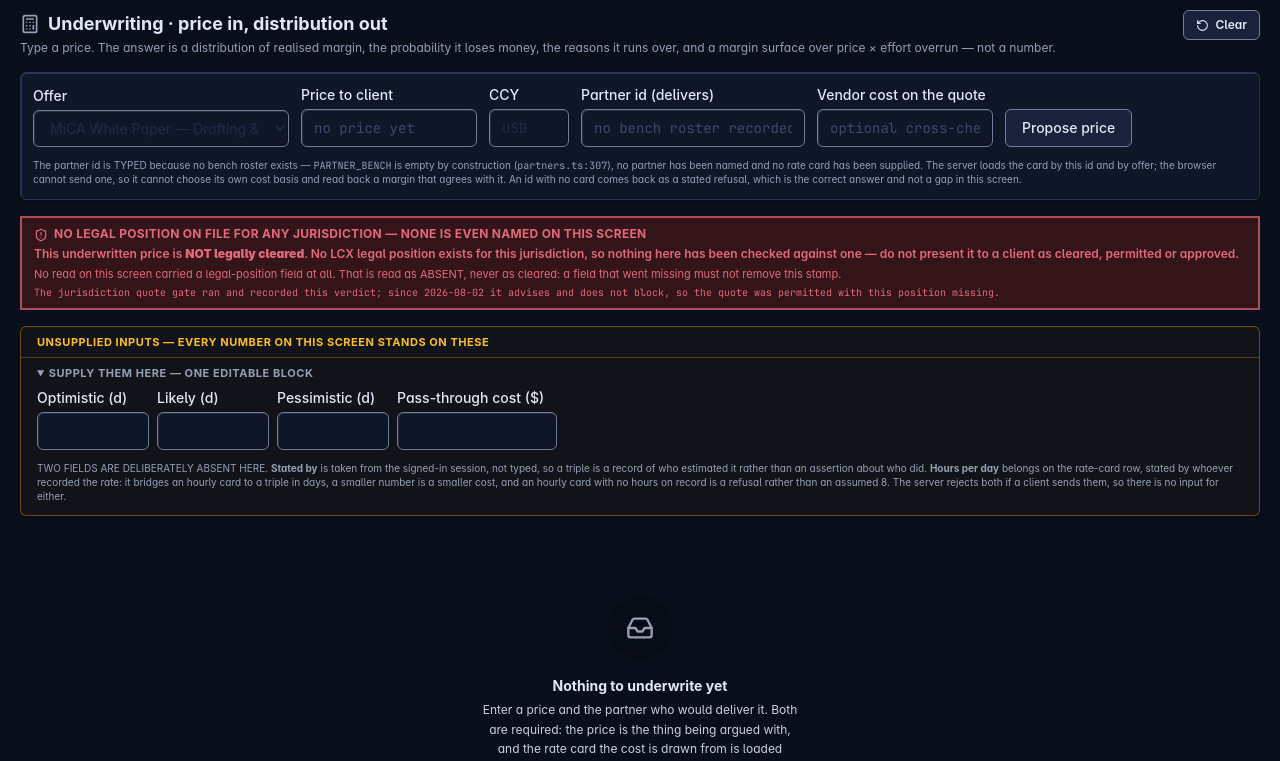
Test: the basis of the distribution › drops the prior warning once recorded outcomes are moving the numbers
Type "25000" into the field with test id "price-input" at (389, 128), box [301,109,477,147]
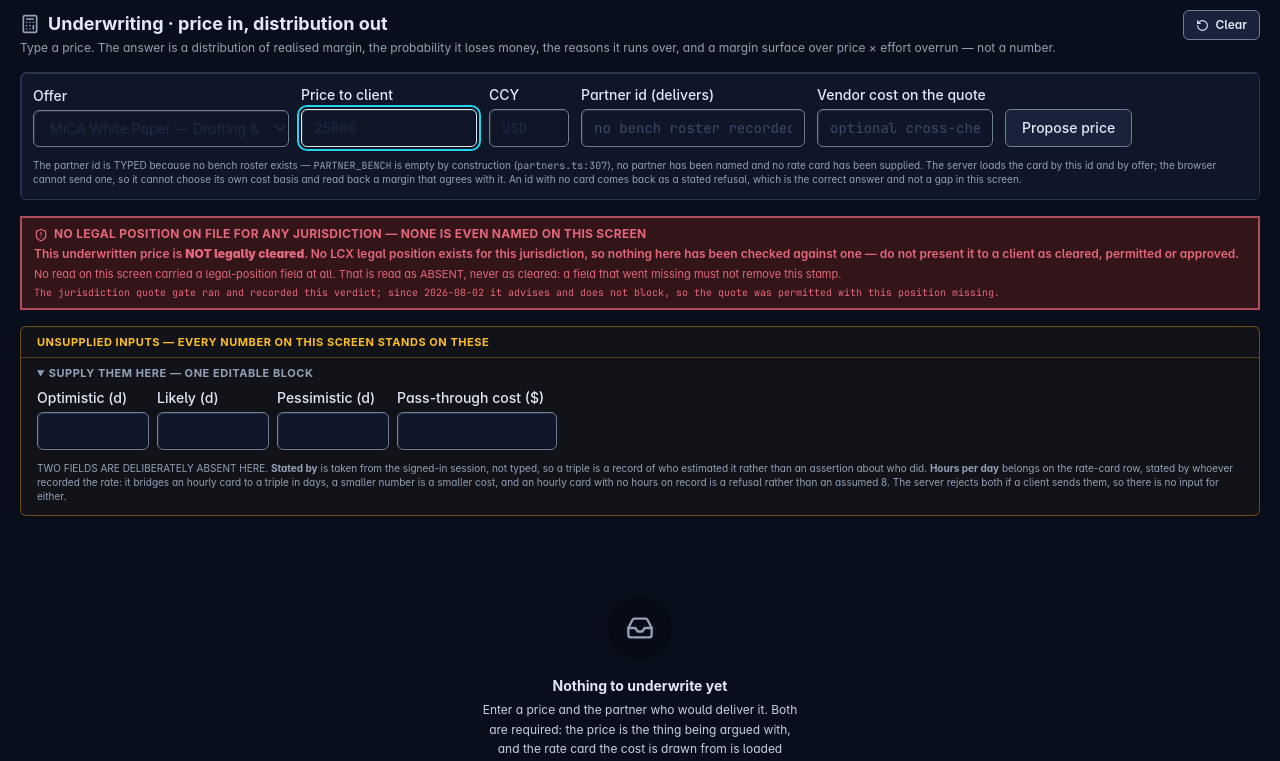
Type "partner-1" into the field with test id "partner-input" at (693, 128), box [581,109,805,147]
(page scrolled)
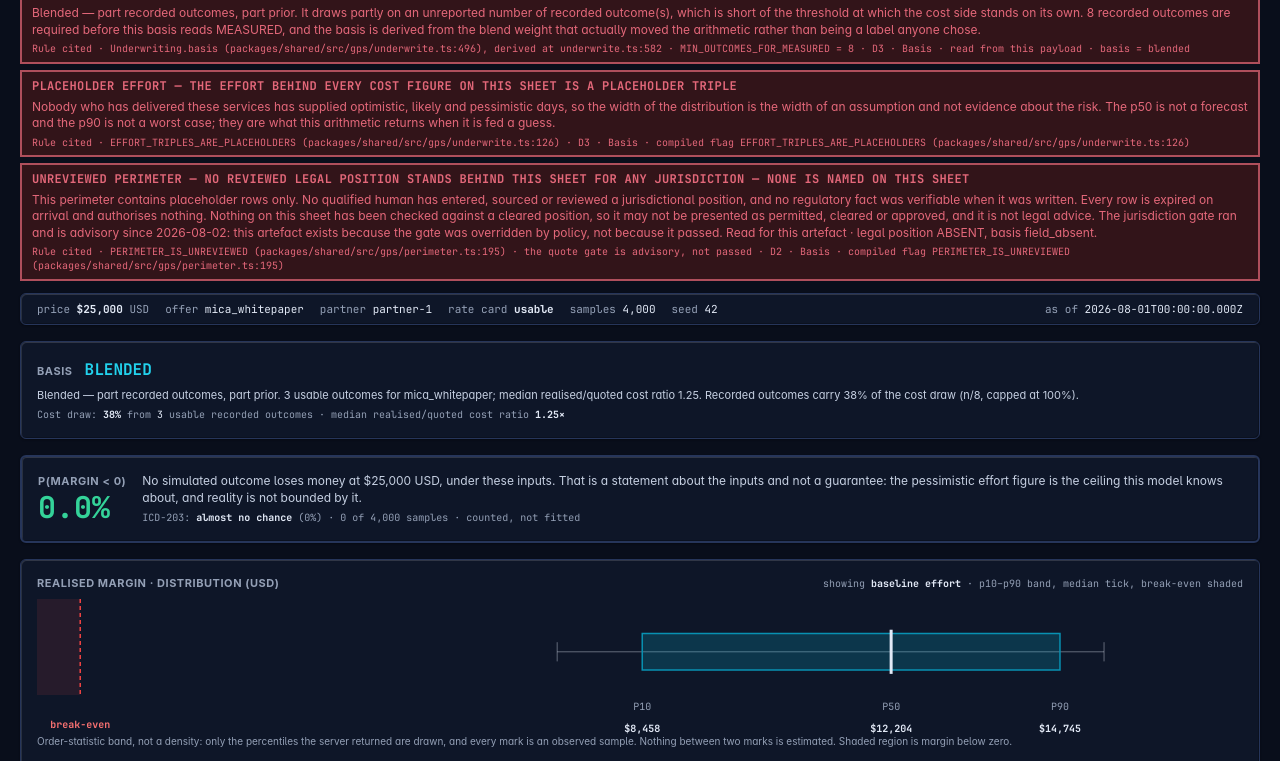
Expected: the element with test id "basis-disclosure" shows "38%", [37,388,1079,402]
